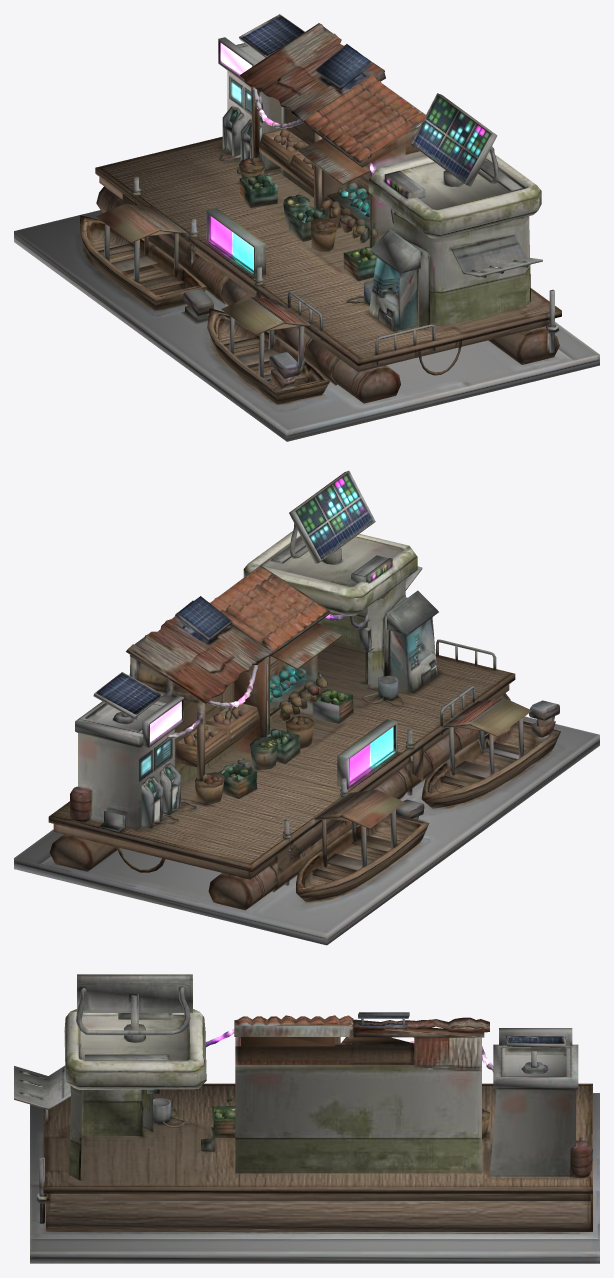
File: floating_market.glb
3 renders of one model, top to bottom at view 1: azimuth 30°, elevation 25°; view 2: azimuth 150°, elevation 25°; view 3: azimuth 270°, elevation 25°, orthographic. The views are drawn at different scales.
Parts seen in each view (by area): view 1: Body, Glow; view 2: Body, Glow; view 3: Body.
Part boxes in pixels (left/top/right/bottom): Body: left=14, top=14, right=599, bottom=441; Glow: left=209, top=42, right=374, bottom=273; Body: left=14, top=470, right=599, bottom=945; Glow: left=150, top=614, right=394, bottom=783; Body: left=14, top=974, right=599, bottom=1263.
Bounding box in the file's own units: 14 × 10.09 × 21.74.
Materials: 2 (2 with a texture image).
